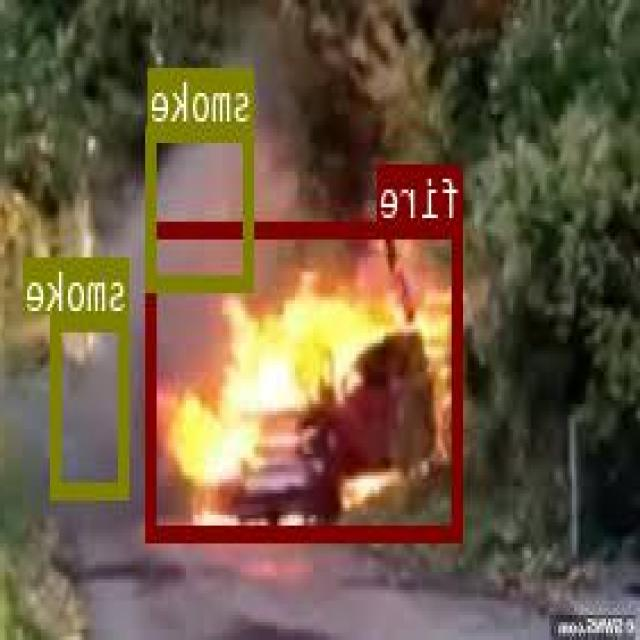fire: (150, 220, 464, 537)
smoke: (148, 122, 255, 288), (53, 312, 130, 494)
